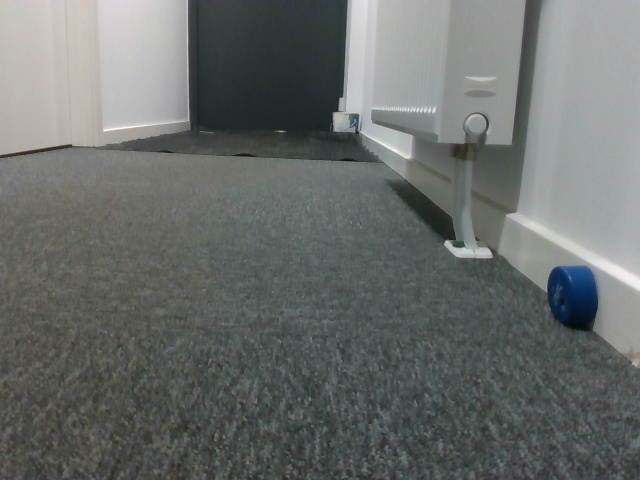alfa: (544, 264, 599, 335)
